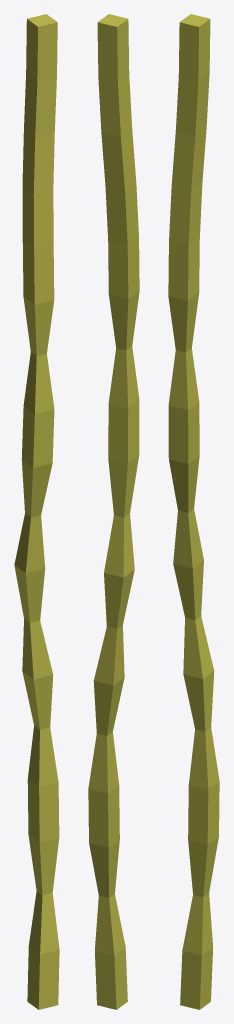
The model's file is E_Liana.fbx.
3 views of the same model, side by side, from view 1: azimuth 30°, elevation 25°; view 2: azimuth 150°, elevation 25°; view 3: azimuth 330°, elevation 25° (orthographic).
Visible parts, largest first — view 1: E_Liana; view 2: E_Liana; view 3: E_Liana.
Boxes of the visible parts, left/top/right/bottom form: E_Liana: left=14, top=14, right=59, bottom=1009; E_Liana: left=88, top=14, right=139, bottom=1009; E_Liana: left=168, top=14, right=219, bottom=1009.
Bounding box in the file's own units: 87.04 × 2400 × 85.58.
